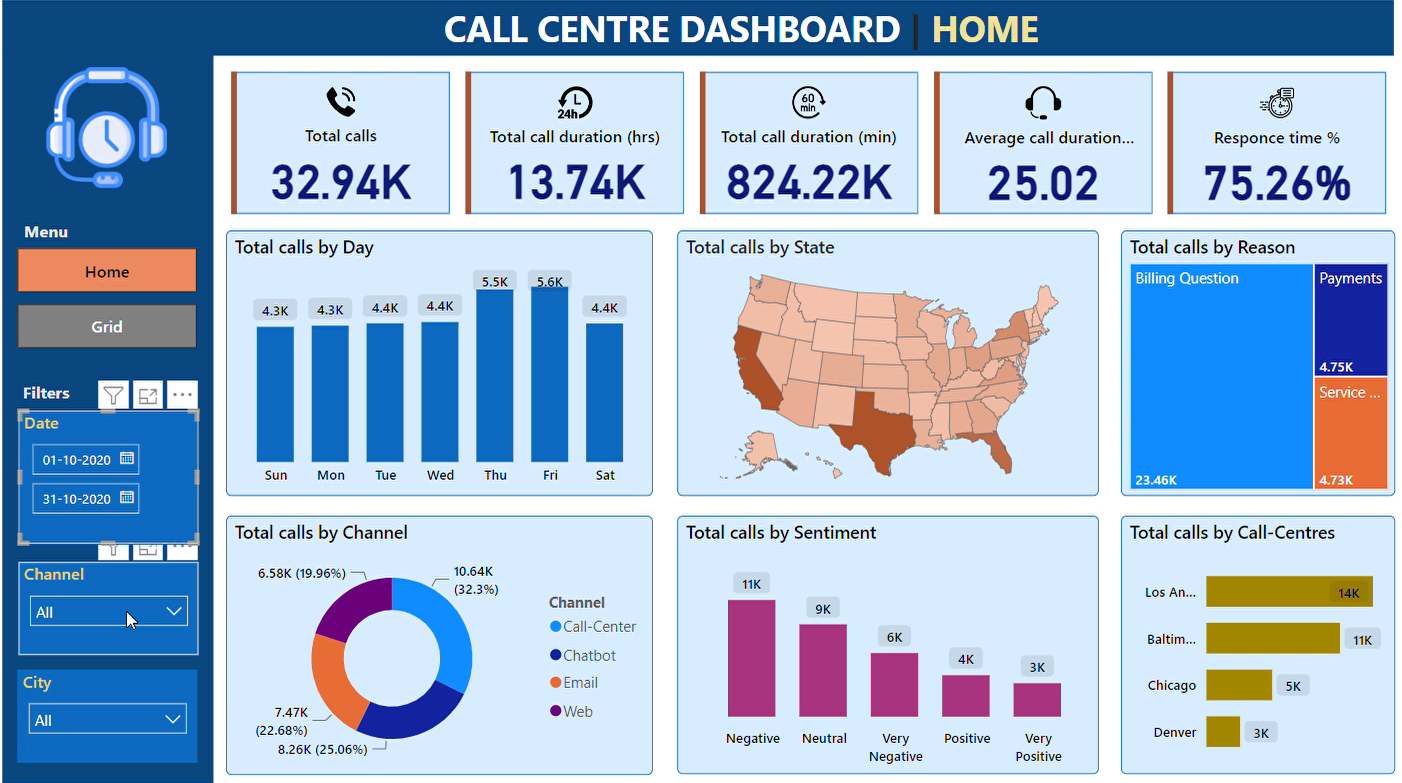

Layout of this report page (visuals, bound fields, positions):
{"tool":"powerbi","page":{"name":"Home","canvas":[1280,720],"ordinal":0},"visuals":[{"type":"shape","box":[15.1,13.7,1254.5,50],"z":0},{"type":"shape","box":[14.7,63.6,190.7,656.4],"z":1000},{"type":"cardVisual","fields":{"Data":["Call Center_Call Center.Total calls","Call Center_Call Center.Total call duration (hrs)","Call Center_Call Center.Total call duration (min)","Call Center_Call Center.Average call duration (min)","Call Center_Call Center.Responce time %"]},"box":[216.4,73.3,1052.5,138.1],"z":2000},{"type":"textbox","box":[408.3,12.2,668.7,52.6],"z":3000},{"type":"columnChart","fields":{"Category":["Date Table.Day"],"Y":["Call Center_Call Center.Total calls"]},"box":[216.4,221.3,385.1,239.6],"z":4000},{"type":"shapeMap","fields":{"Category":["Call Center_Call Center.State"],"Value":["Call Center_Call Center.Total calls"]},"box":[623.4,221.3,380.2,239.6],"z":5000},{"type":"treemap","fields":{"Group":["Call Center_Call Center.Reason"],"Values":["Call Center_Call Center.Total calls"]},"box":[1023.2,221.3,246.9,239.6],"z":6000},{"type":"donutChart","fields":{"Category":["Call Center_Call Center.Channel"],"Y":["Call Center_Call Center.Total calls"]},"box":[216.4,478,385.1,233.5],"z":7000},{"type":"columnChart","fields":{"Category":["Call Center_Call Center.Sentiment"],"Y":["Call Center_Call Center.Total calls"]},"box":[623,478,380,233],"z":8000},{"type":"barChart","fields":{"Category":["Call Center_Call Center.Call-Centres City"],"Y":["Call Center_Call Center.Total calls"]},"box":[1023,478,247,233],"z":9000},{"type":"slicer","title":"Date","fields":{"Values":["Date Table.Date"]},"box":[29.3,382.6,162.6,121],"z":10000},{"type":"slicer","title":"Channel","fields":{"Values":["Call Center_Call Center.Channel"]},"box":[29.3,519.5,162.6,84.3],"z":11000},{"type":"slicer","title":"City","fields":{"Values":["Call Center_Call Center.City"]},"box":[28.1,616.1,162.6,84.3],"z":12000},{"type":"image","box":[50.1,64.8,118.6,127.1],"z":13000},{"type":"pageNavigator","box":[28.1,237.1,162.6,91.7],"z":14000},{"type":"textbox","box":[29.3,206.6,80.7,30.6],"z":15000},{"type":"textbox","box":[28.1,352.1,80.7,30.6],"z":16000}]}

Visuals, with their boxes in screenshot pixels (x1, y1, x2, y2), scaled from the page's 1280x720 canvas onto the 1402x783 screenshot:
shape: x1=17, y1=15, x2=1391, y2=69
shape: x1=16, y1=69, x2=225, y2=782
cardVisual - Call Center_Call Center.Total calls x Call Center_Call Center.Total call duration (hrs): x1=237, y1=80, x2=1390, y2=230
textbox: x1=447, y1=13, x2=1180, y2=70
columnChart - Date Table.Day x Call Center_Call Center.Total calls: x1=237, y1=241, x2=659, y2=501
shapeMap - Call Center_Call Center.State x Call Center_Call Center.Total calls: x1=683, y1=241, x2=1099, y2=501
treemap - Call Center_Call Center.Reason x Call Center_Call Center.Total calls: x1=1121, y1=241, x2=1391, y2=501
donutChart - Call Center_Call Center.Channel x Call Center_Call Center.Total calls: x1=237, y1=520, x2=659, y2=774
columnChart - Call Center_Call Center.Sentiment x Call Center_Call Center.Total calls: x1=682, y1=520, x2=1099, y2=773
barChart - Call Center_Call Center.Call-Centres City x Call Center_Call Center.Total calls: x1=1121, y1=520, x2=1391, y2=773
"Date" slicer: x1=32, y1=416, x2=210, y2=548
"Channel" slicer: x1=32, y1=565, x2=210, y2=657
"City" slicer: x1=31, y1=670, x2=209, y2=762
image: x1=55, y1=70, x2=185, y2=209
pageNavigator: x1=31, y1=258, x2=209, y2=358
textbox: x1=32, y1=225, x2=120, y2=258
textbox: x1=31, y1=383, x2=119, y2=416
